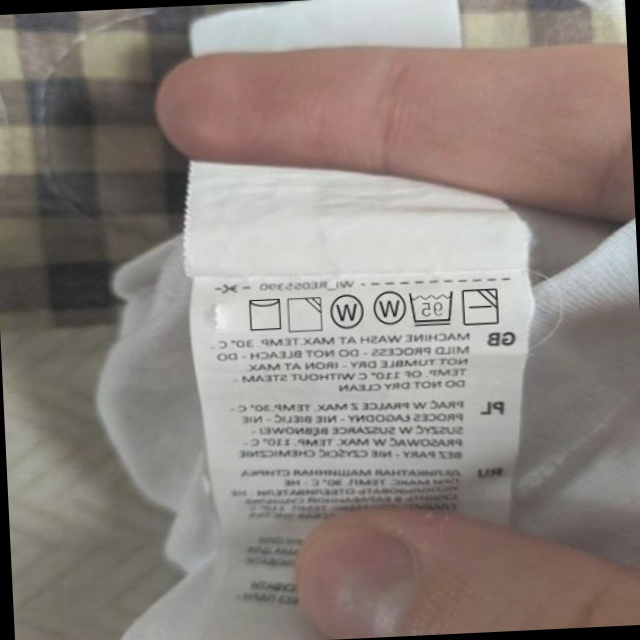95C: (407, 288, 456, 328)
dry_flat_in_shade: (461, 284, 502, 328)
line_dry: (244, 294, 285, 334)
shade_dry: (285, 294, 325, 335)
wet_clean: (328, 292, 366, 333), (370, 286, 406, 328)
